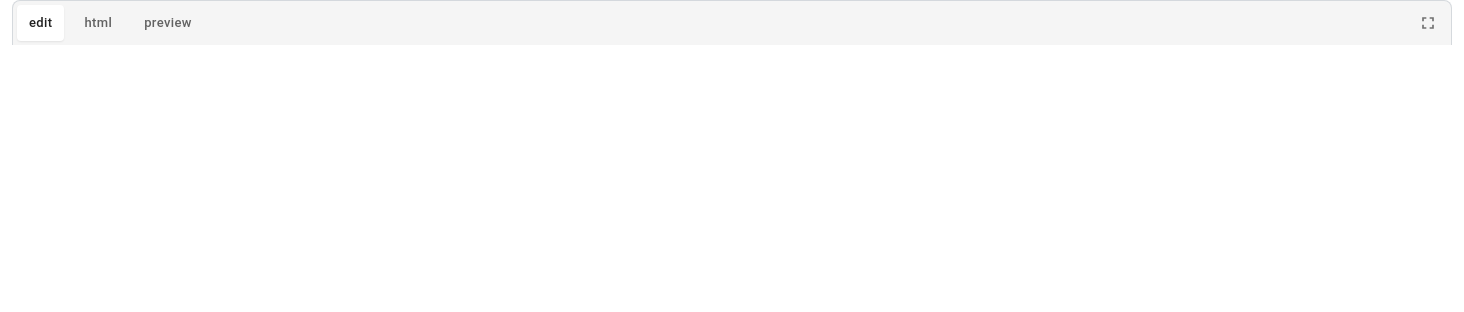
Test case: HtmlEditor › switches to html mode
The image size is (1464, 312).
Step 1. Click the tab "html" → (98, 23), box [72,5,124,41]
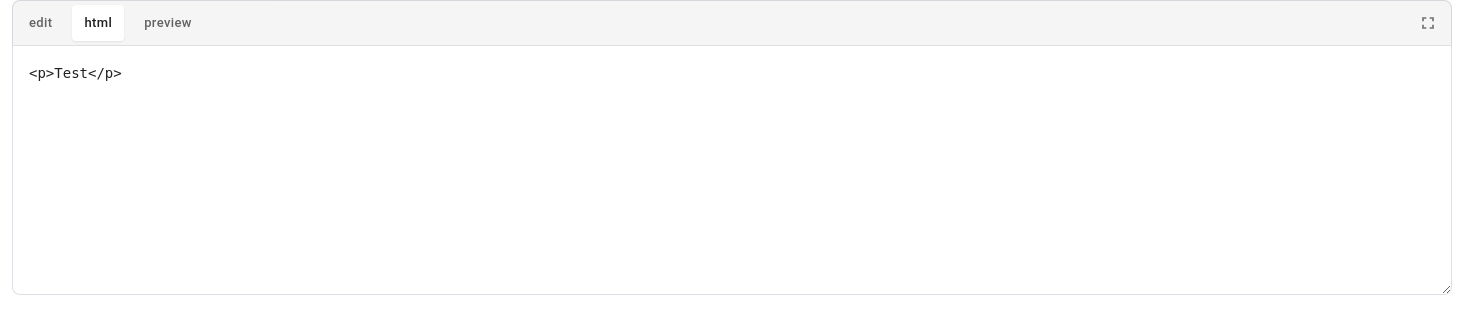
expect the text box is shown: met
